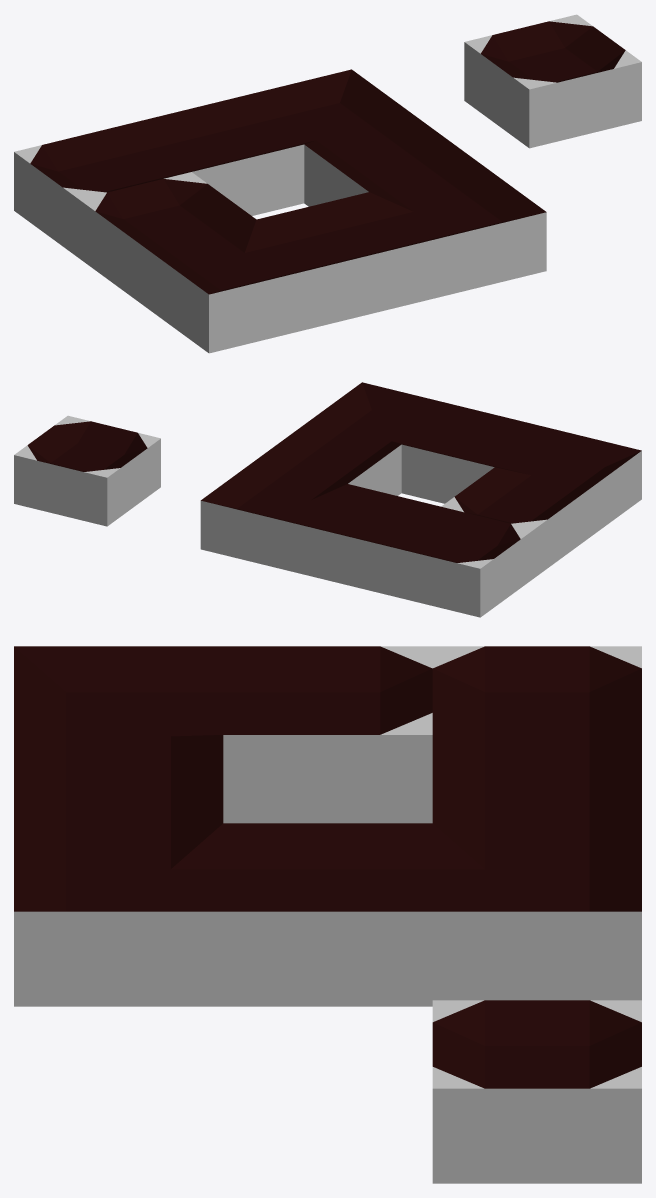
File: 68f_path.obj
3 renders of one model, top to bottom at view 1: azimuth 30°, elevation 25°; view 2: azimuth 150°, elevation 25°; view 3: azimuth 270°, elevation 25°, orthographic. The views are drawn at different scales.
Parts seen in each view (by area): view 1: foil.hole.4.4_Cube.287, foil.corner.0.2_corner.1417, foil.through.1.2_through.295, foil.corner.2.2_corner.1418, foil.ending.0.3_ending.571, foil.through.1.4_through.296, foil.ending.0.4_ending.572, foil.through.2.3_through.297, foil.corner.2.4_corner.1419; view 2: foil.hole.4.4_Cube.287, foil.ending.0.4_ending.572, foil.through.1.4_through.296, foil.corner.2.4_corner.1419, foil.through.1.2_through.295, foil.corner.0.2_corner.1417, foil.ending.0.3_ending.571, foil.through.2.3_through.297, foil.corner.2.2_corner.1418; view 3: foil.through.2.3_through.297, foil.hole.4.4_Cube.287, foil.ending.0.3_ending.571, foil.corner.2.2_corner.1418, foil.corner.2.4_corner.1419, foil.corner.0.2_corner.1417, foil.ending.0.4_ending.572, foil.through.1.2_through.295, foil.through.1.4_through.296.
Boxes of the visible parts, bbox=[...] form: foil.hole.4.4_Cube.287: bbox=[464, 14, 641, 148]; foil.corner.0.2_corner.1417: bbox=[144, 220, 321, 353]; foil.through.1.2_through.295: bbox=[256, 192, 434, 325]; foil.corner.2.2_corner.1418: bbox=[369, 165, 546, 298]; foil.ending.0.3_ending.571: bbox=[79, 172, 256, 305]; foil.through.1.4_through.296: bbox=[127, 97, 304, 215]; foil.ending.0.4_ending.572: bbox=[14, 124, 187, 257]; foil.through.2.3_through.297: bbox=[304, 117, 481, 206]; foil.corner.2.4_corner.1419: bbox=[239, 69, 416, 152]; foil.hole.4.4_Cube.287: bbox=[14, 415, 160, 526]; foil.ending.0.4_ending.572: bbox=[387, 506, 534, 617]; foil.through.1.4_through.296: bbox=[294, 484, 440, 594]; foil.corner.2.4_corner.1419: bbox=[200, 461, 347, 571]; foil.through.1.2_through.295: bbox=[401, 405, 548, 503]; foil.corner.0.2_corner.1417: bbox=[495, 428, 641, 538]; foil.ending.0.3_ending.571: bbox=[441, 467, 587, 577]; foil.through.2.3_through.297: bbox=[254, 422, 401, 495]; foil.corner.2.2_corner.1418: bbox=[308, 382, 455, 450]; foil.through.2.3_through.297: bbox=[223, 823, 432, 1006]; foil.hole.4.4_Cube.287: bbox=[432, 1000, 641, 1183]; foil.ending.0.3_ending.571: bbox=[223, 646, 432, 823]; foil.corner.2.2_corner.1418: bbox=[14, 823, 223, 1006]; foil.corner.2.4_corner.1419: bbox=[432, 823, 641, 1000]; foil.corner.0.2_corner.1417: bbox=[14, 646, 223, 758]; foil.ending.0.4_ending.572: bbox=[432, 646, 641, 758]; foil.through.1.2_through.295: bbox=[14, 735, 223, 846]; foil.through.1.4_through.296: bbox=[432, 735, 641, 846].
Size of the model in its own units: 10 by 1 by 6.
